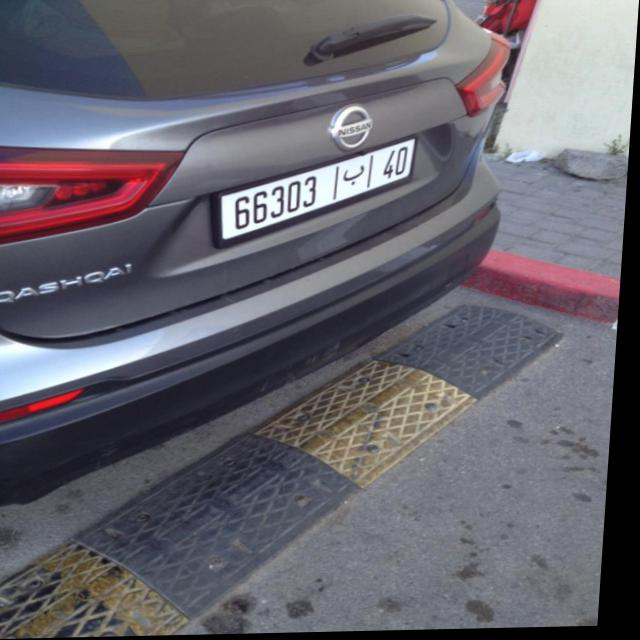License-Plate: (219, 141, 417, 247)
